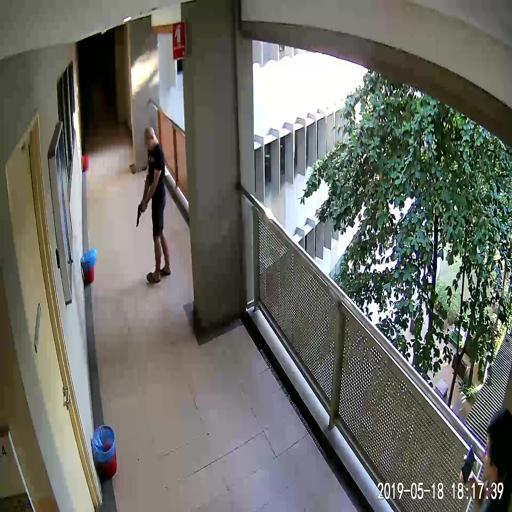Handgun: (135, 200, 145, 226)
